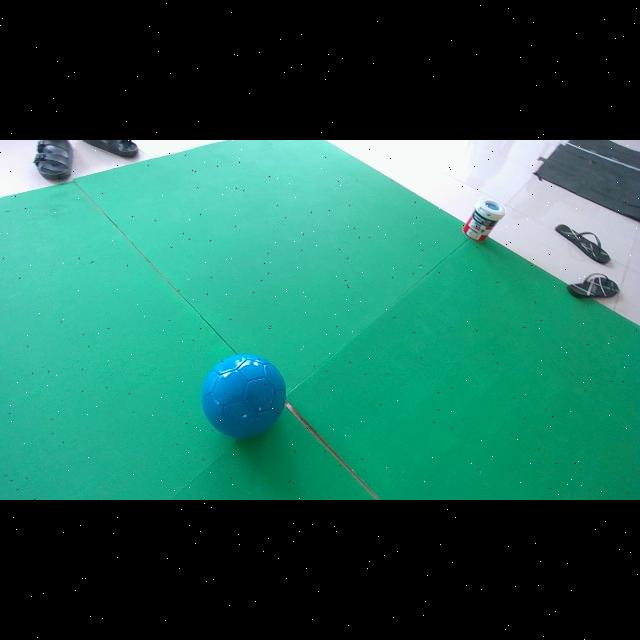B: (202, 355, 286, 439)
